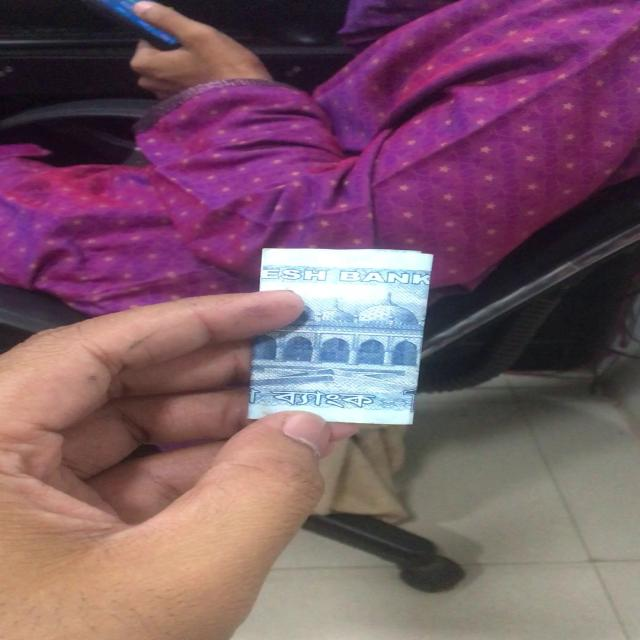Taka: (264, 248, 419, 425)
